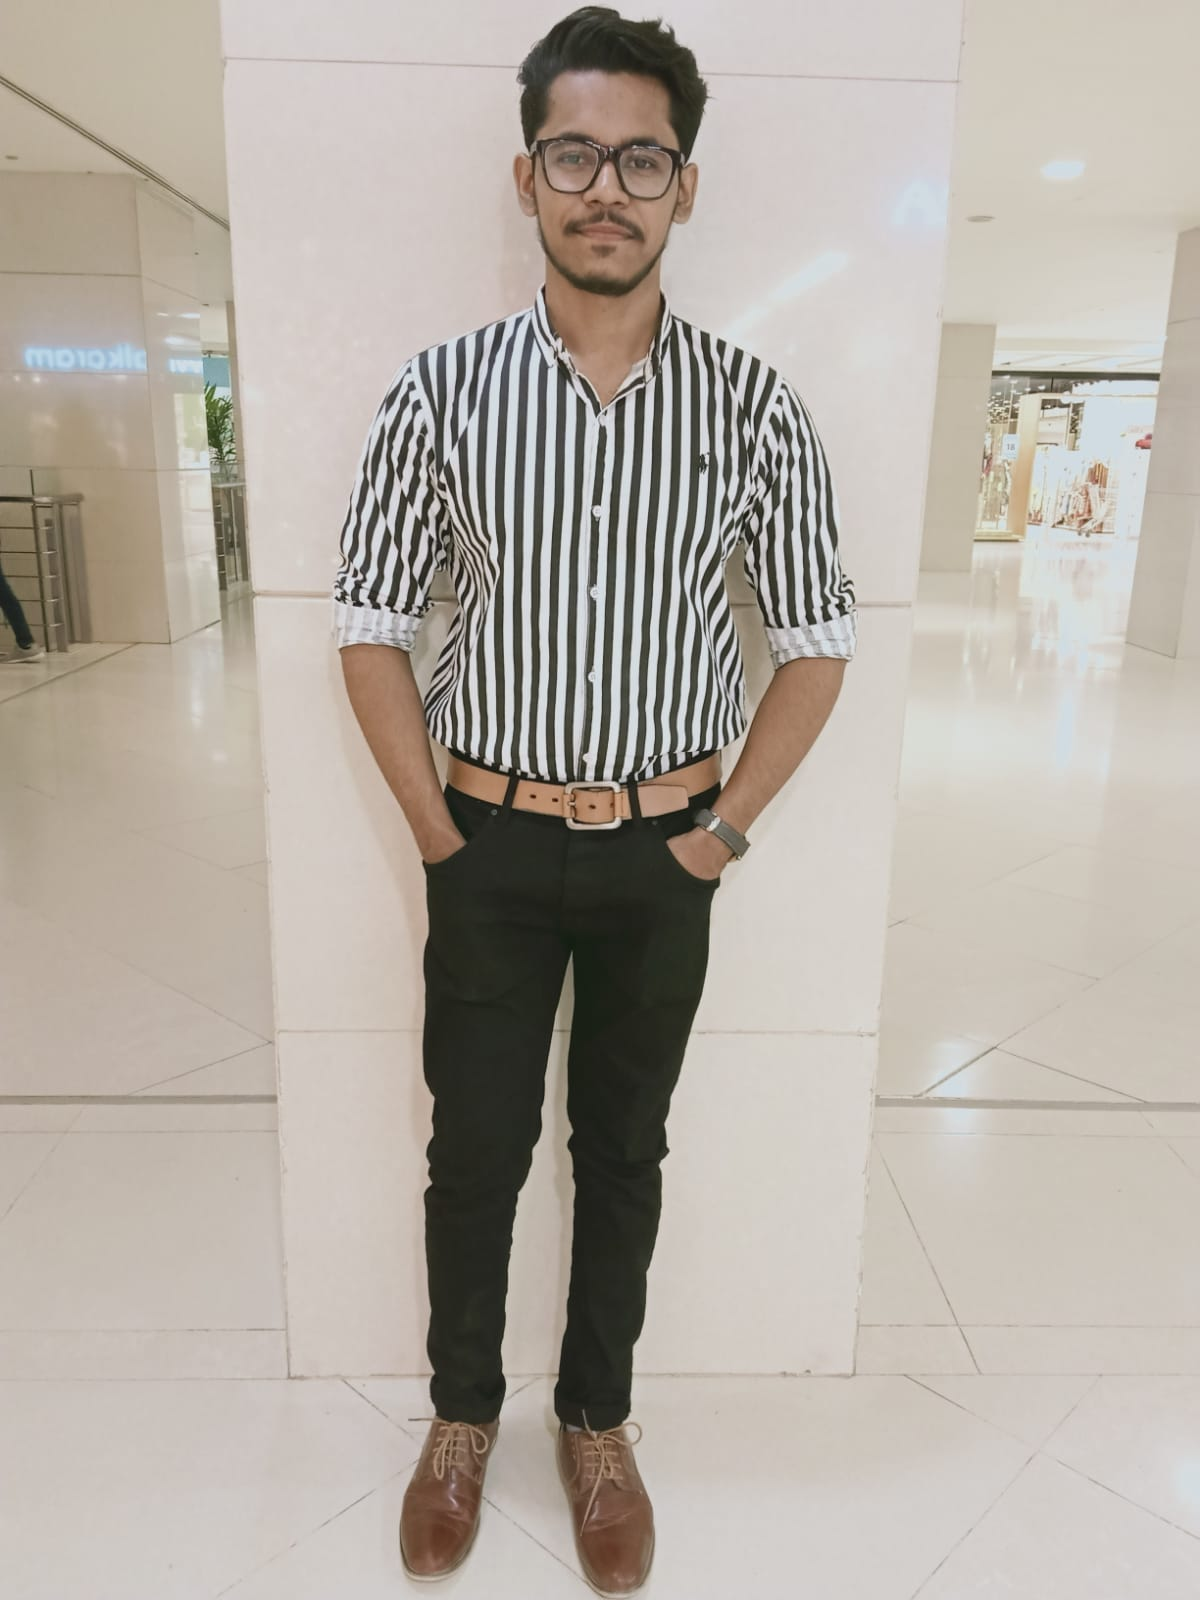NoMask: (538, 127, 673, 295)
